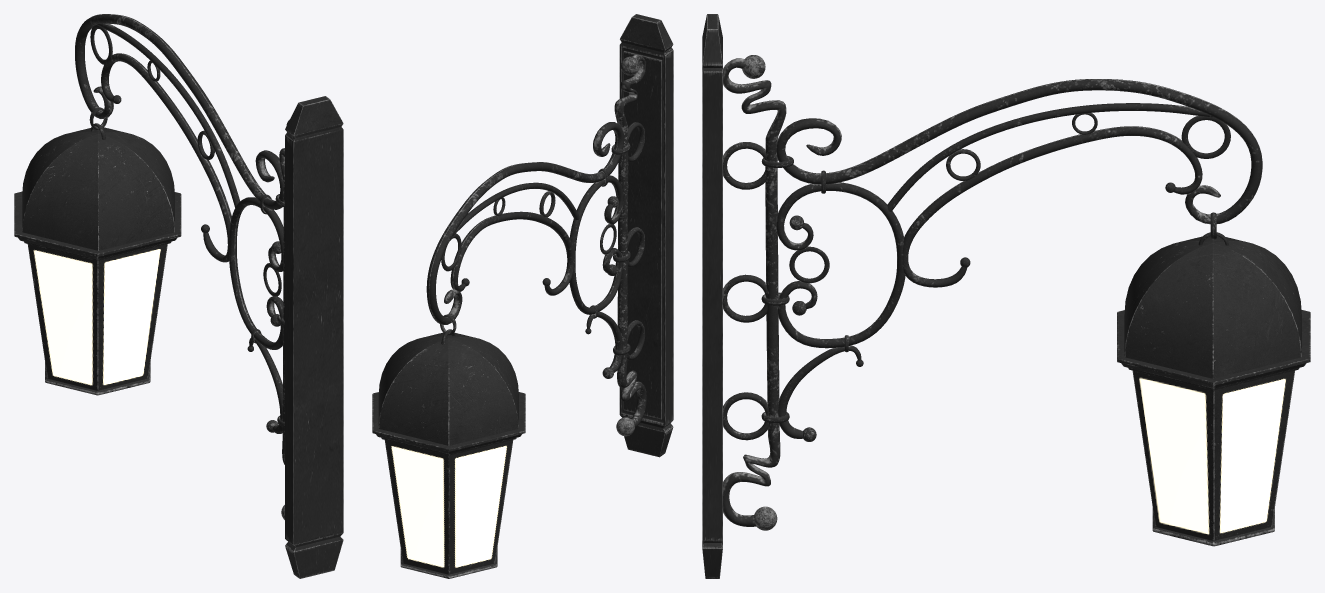
The model's file is victorian_street_lamp.glb.
3 views of the same model, side by side, from view 1: azimuth 30°, elevation 25°; view 2: azimuth 150°, elevation 25°; view 3: azimuth 270°, elevation 25° (orthographic). The views are drawn at different scales.
Visible parts, largest first — view 1: Lamp, WallPiece, MetalTubes; view 2: Lamp, WallPiece, MetalTubes; view 3: Lamp, MetalTubes, WallPiece.
Boxes of the visible parts, x1,y1,x2,y2 form: Lamp: (14, 127, 181, 395); WallPiece: (285, 96, 343, 578); MetalTubes: (75, 14, 289, 519); Lamp: (372, 332, 525, 578); WallPiece: (619, 14, 673, 457); MetalTubes: (426, 54, 646, 436); Lamp: (1117, 236, 1310, 546); MetalTubes: (723, 55, 1262, 530); WallPiece: (702, 14, 722, 578).
Bounding box in the file's own units: 0.734 × 1.99 × 2.
3 materials, 3 textured.
